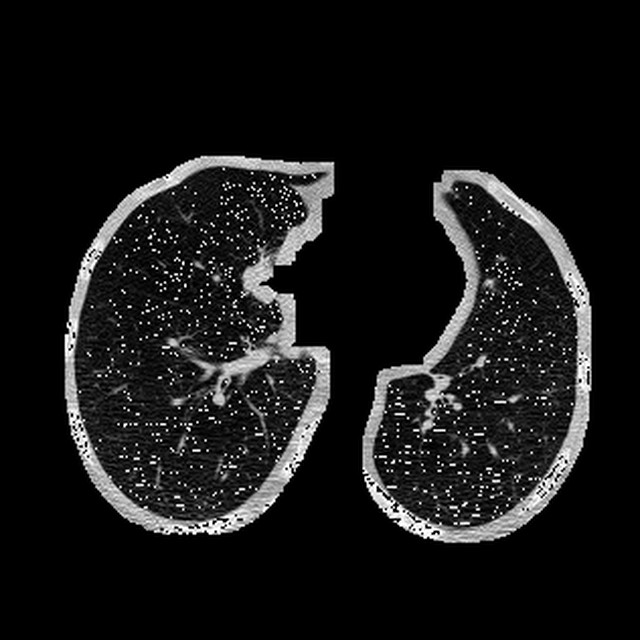PN: (241, 265, 277, 302)
